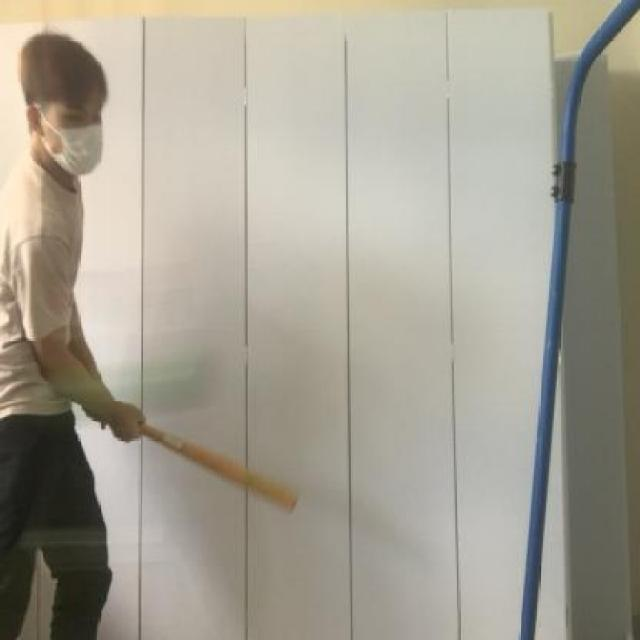baseball: (34, 334, 238, 424)
